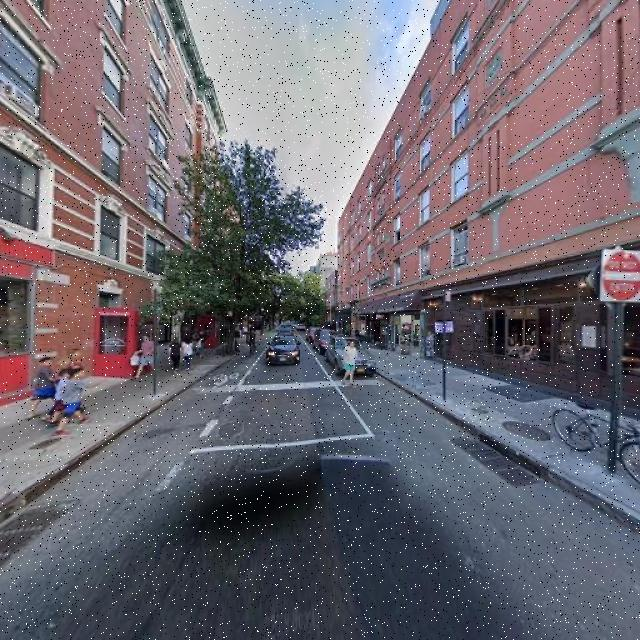Building: (339, 1, 640, 427), (1, 1, 218, 404)
